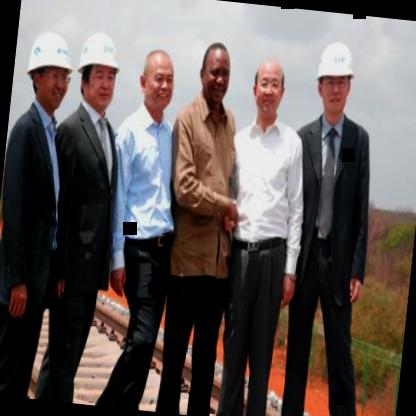helmet: (20, 28, 82, 117), (71, 26, 126, 112), (309, 38, 355, 119)
